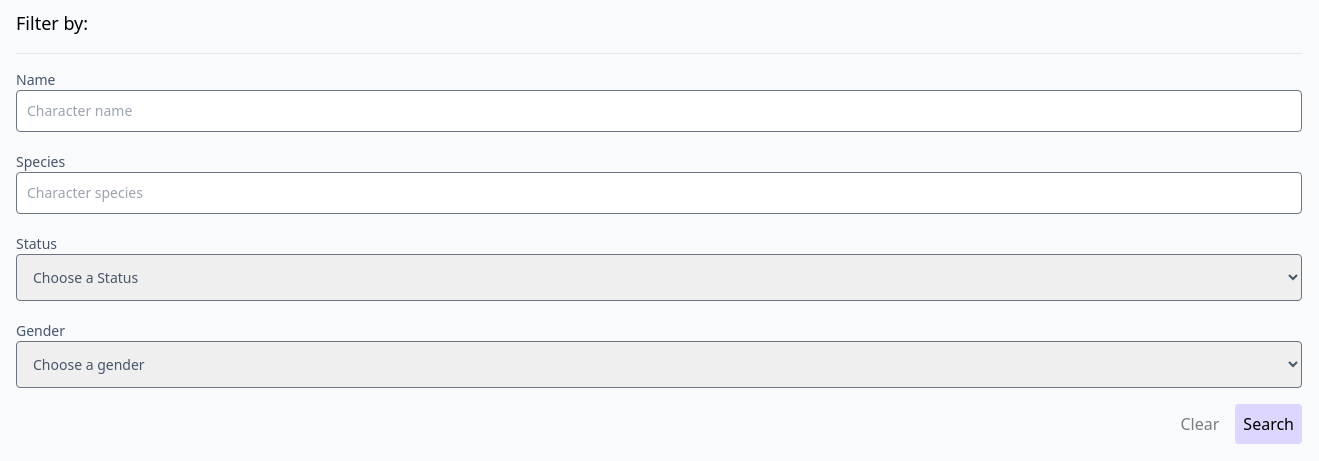
Test: SidebarFilters › should clear the form when the clear button is pressed
Type "Morty" into the search field labelled "Name". click: (659, 111)
box: [16,90,1302,132]
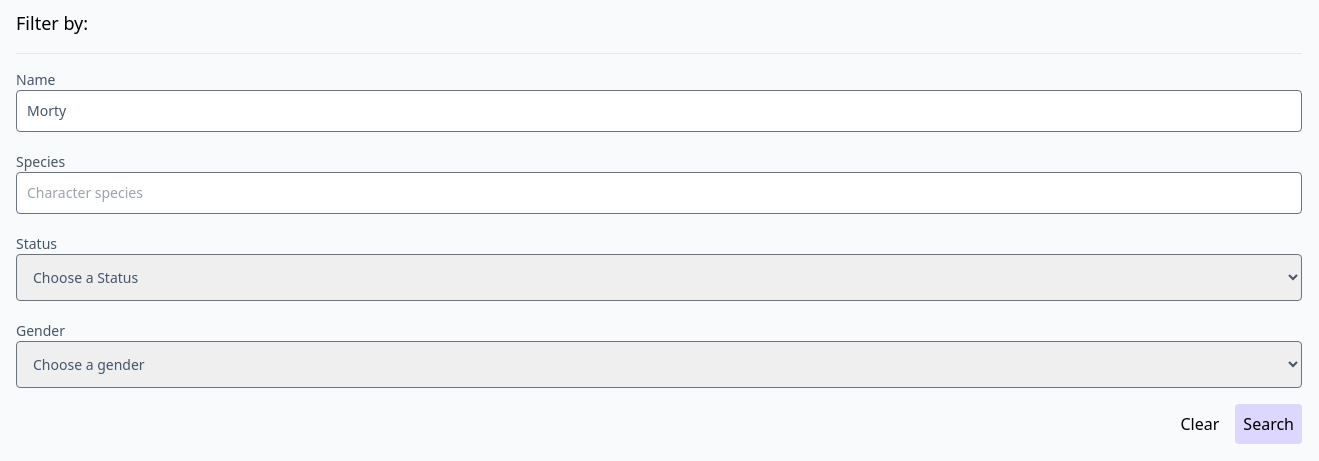
Select "Dead" in the dropdown labelled "Status". click: (659, 278)
box: [16,254,1302,301]
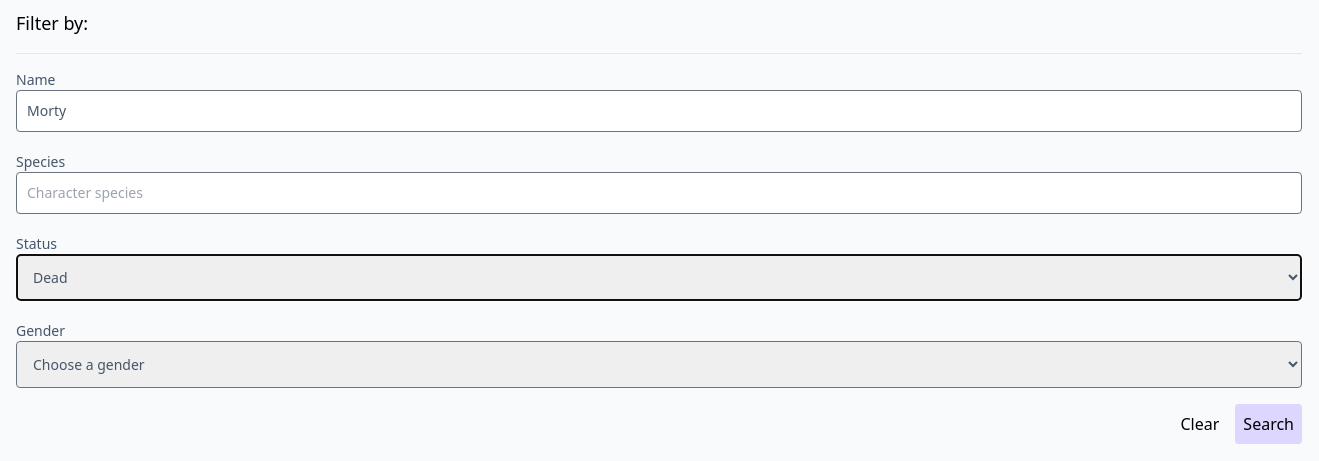
Click the button "Clear". click: (1200, 424)
box: [1172,404,1227,444]
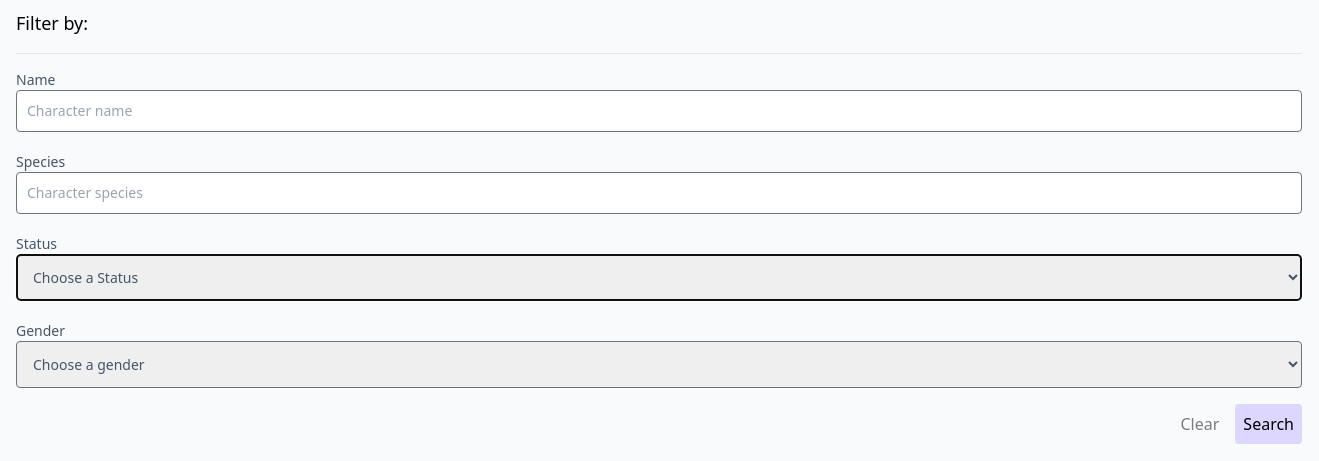
expect the search field labelled "Name" is empty: met, box [16,90,1302,132]
